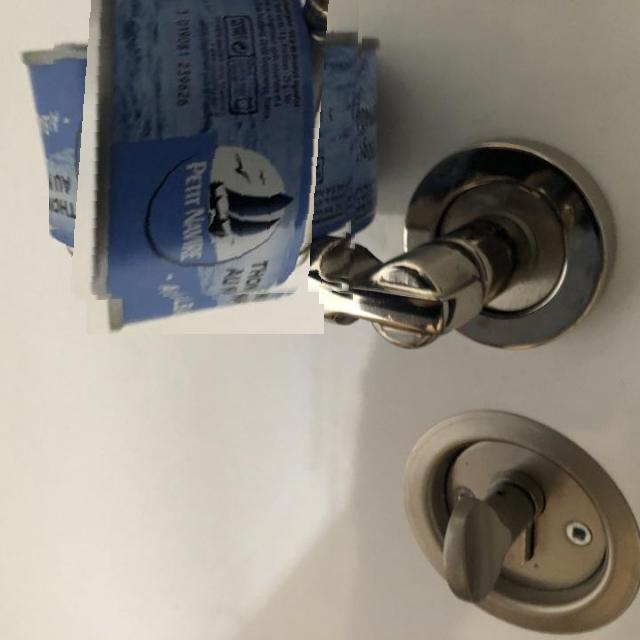recyclable: (49, 0, 360, 302)
